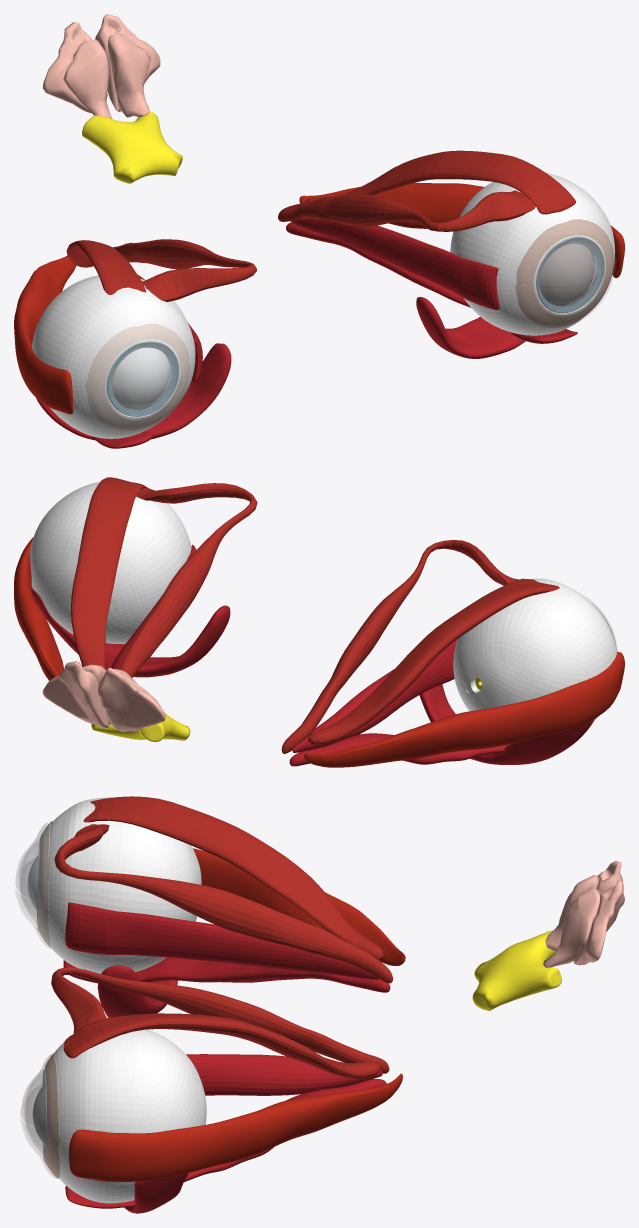
The model's file is sensory.glb.
3 views of the same model, one above another, from view 1: azimuth 30°, elevation 25°; view 2: azimuth 150°, elevation 25°; view 3: azimuth 270°, elevation 25° (orthographic). The views are drawn at different scales.
Parts seen in each view (by area): view 1: f-right-sclera, f-left-sclera, f-left-medial-rectus, f-left-superior-rectus, f-left-superior-oblique, f-right-lateral-rectus, f-right-superior-oblique, palpebral-conjunctiva-of-right-upper-eyelid, palpebral-conjunctiva-of-left-upper-eyelid, optic-chiasma, f-right-cornea, right-bulbar-conjunctiva (+17 smaller); view 2: f-right-sclera, f-left-sclera, f-right-lateral-rectus, f-left-superior-rectus, f-left-superior-oblique, f-right-superior-rectus, f-right-superior-oblique, f-right-inferior-oblique, f-left-lateral-rectus, f-right-medial-rectus, allen-supraoptic-region-of-hth-l, f-left-inferior-oblique (+4 smaller); view 3: f-left-sclera, f-left-lateral-rectus, f-right-sclera, f-right-medial-rectus, f-right-superior-rectus, f-right-superior-oblique, f-left-superior-oblique, f-left-superior-rectus, f-left-medial-rectus, f-right-lateral-rectus, optic-chiasma, f-right-inferior-rectus (+15 smaller).
Boxes of the visible parts, x1,y1,x2,y2 form: f-right-sclera: [32, 275, 195, 438]; f-left-sclera: [450, 173, 615, 335]; f-left-medial-rectus: [291, 218, 499, 309]; f-left-superior-rectus: [305, 150, 575, 214]; f-left-superior-oblique: [278, 190, 535, 231]; f-right-lateral-rectus: [14, 255, 76, 414]; f-right-superior-oblique: [113, 239, 256, 301]; palpebral-conjunctiva-of-right-upper-eyelid: [89, 326, 189, 388]; palpebral-conjunctiva-of-left-upper-eyelid: [517, 222, 614, 286]; optic-chiasma: [82, 111, 182, 183]; f-right-cornea: [107, 342, 178, 416]; right-bulbar-conjunctiva: [85, 324, 189, 431]; f-right-sclera: [453, 578, 617, 720]; f-left-sclera: [30, 482, 191, 643]; f-right-lateral-rectus: [304, 652, 624, 767]; f-left-superior-rectus: [71, 477, 148, 668]; f-left-superior-oblique: [119, 483, 257, 677]; f-right-superior-rectus: [308, 578, 559, 744]; f-right-superior-oblique: [281, 540, 518, 753]; f-right-inferior-oblique: [419, 684, 593, 764]; f-left-lateral-rectus: [14, 537, 63, 680]; f-right-medial-rectus: [292, 639, 457, 752]; allen-supraoptic-region-of-hth-l: [98, 668, 165, 731]; f-left-inferior-oblique: [31, 586, 230, 677]; f-left-sclera: [44, 1029, 206, 1203]; f-left-lateral-rectus: [69, 1073, 402, 1181]; f-right-sclera: [37, 797, 201, 973]; f-right-medial-rectus: [65, 902, 379, 979]; f-right-superior-rectus: [83, 796, 383, 959]; f-right-superior-oblique: [54, 824, 393, 983]; f-left-superior-oblique: [51, 967, 389, 1073]; f-left-superior-rectus: [63, 1013, 380, 1079]; f-left-medial-rectus: [186, 1054, 382, 1095]; f-right-lateral-rectus: [193, 848, 405, 965]; optic-chiasma: [472, 930, 561, 1010]; f-right-inferior-rectus: [63, 957, 390, 992].
Bounding box in the file's own units: 0.0994 × 0.0354 × 0.0839.
